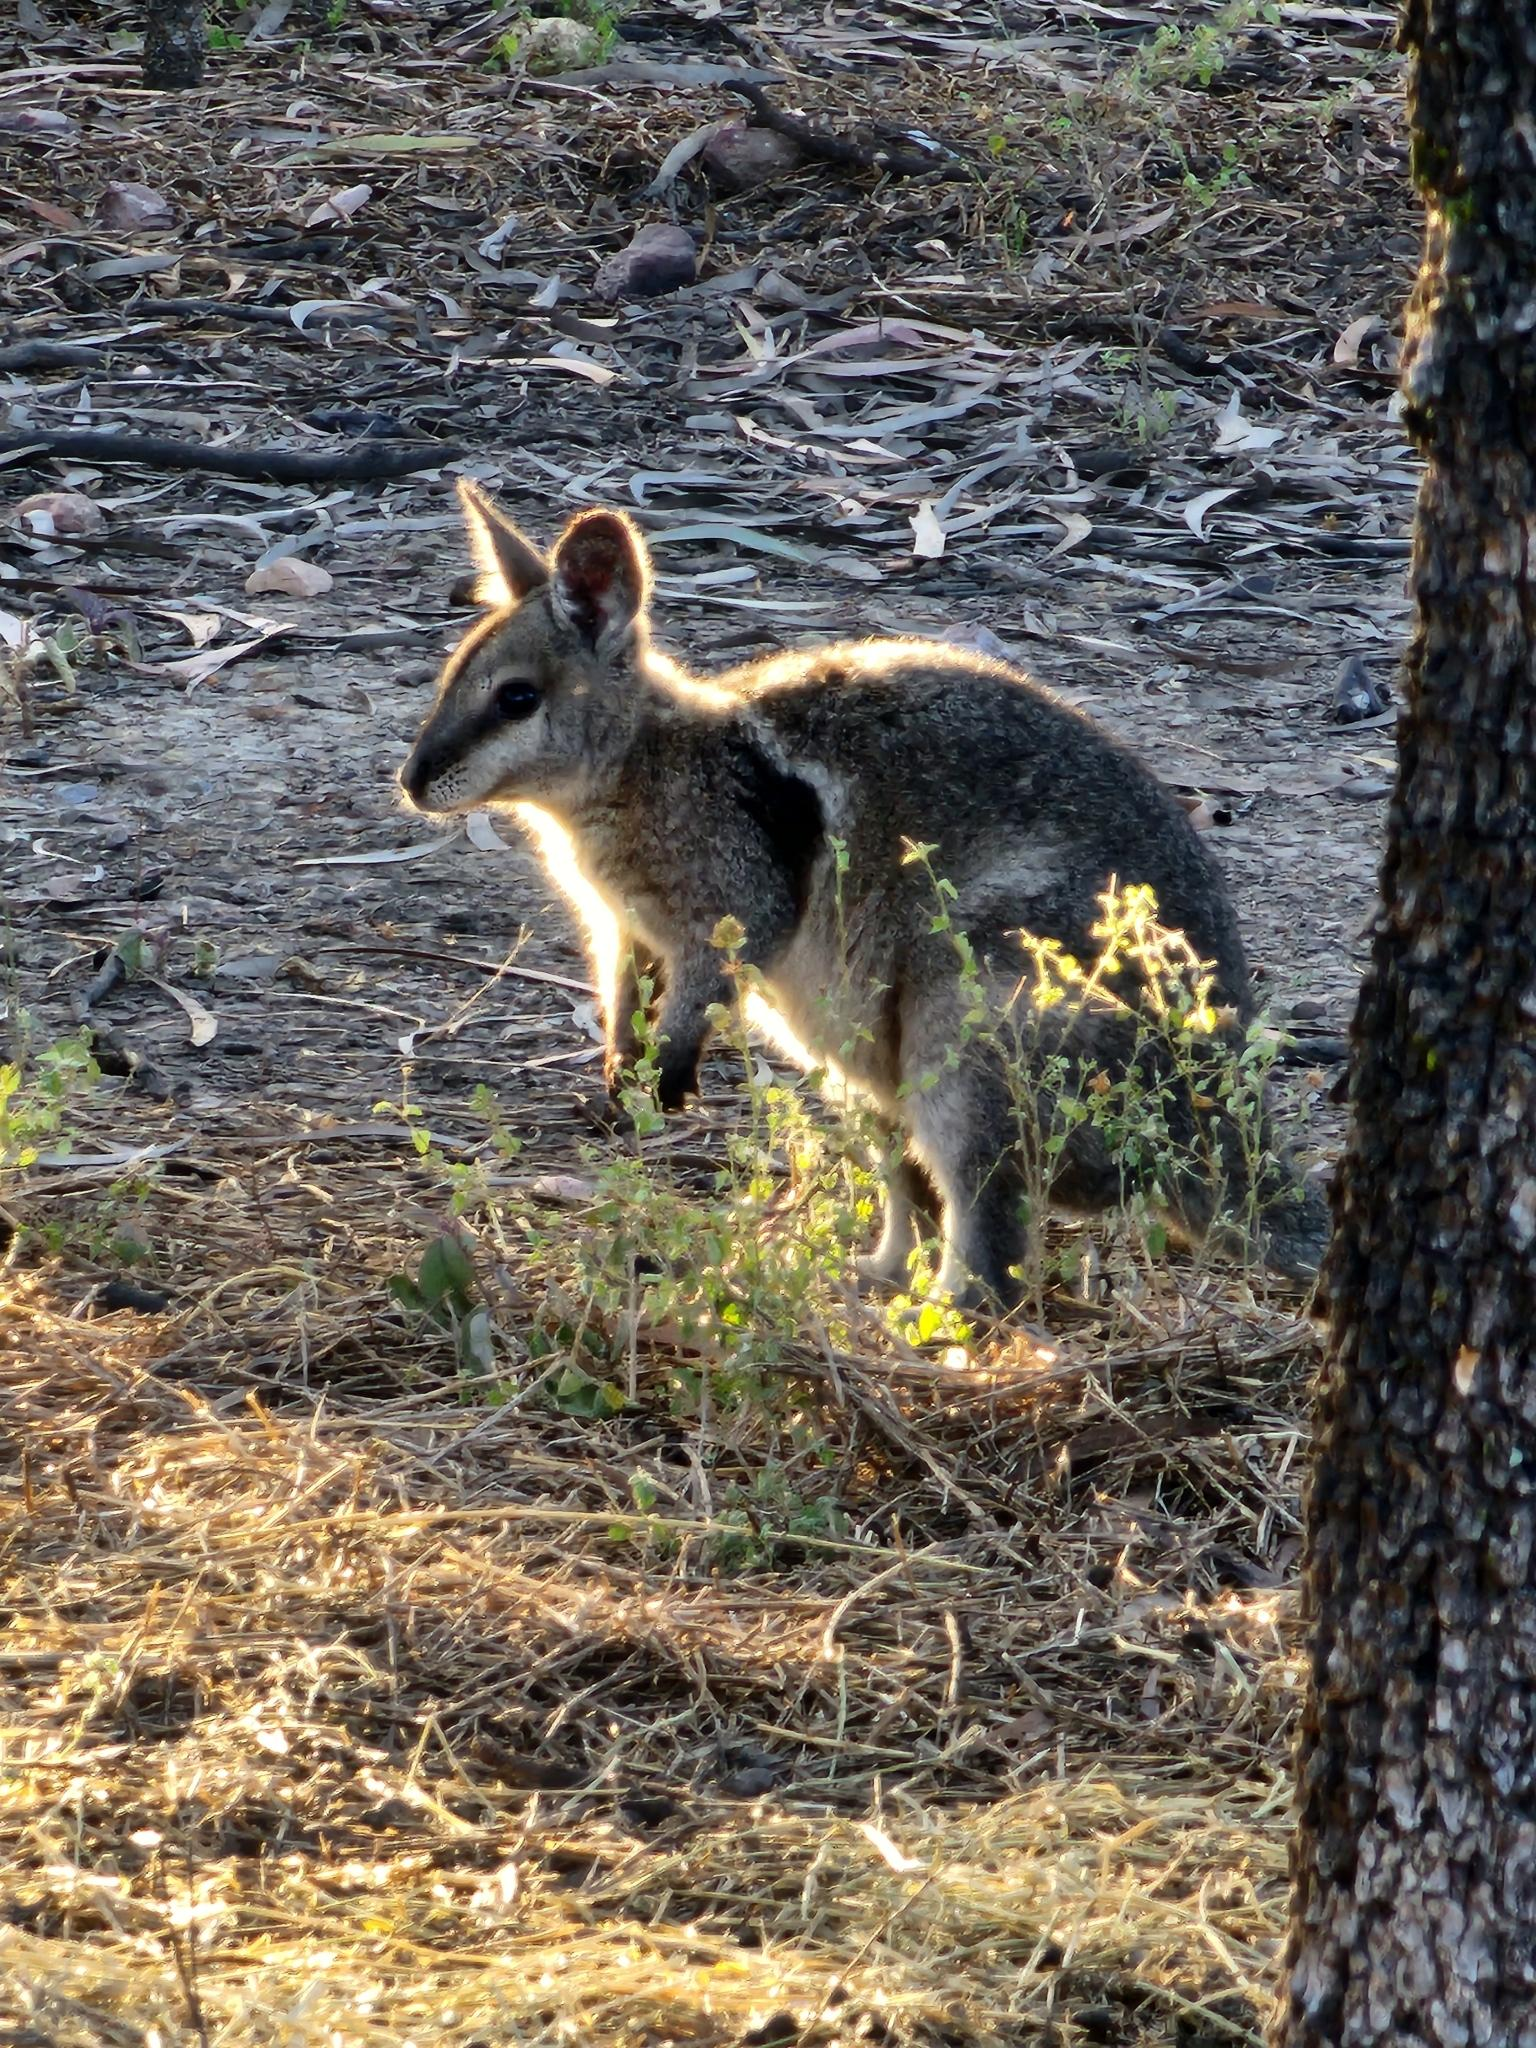Bridled-nail-tail wallaby: (390, 477, 1283, 1340)
